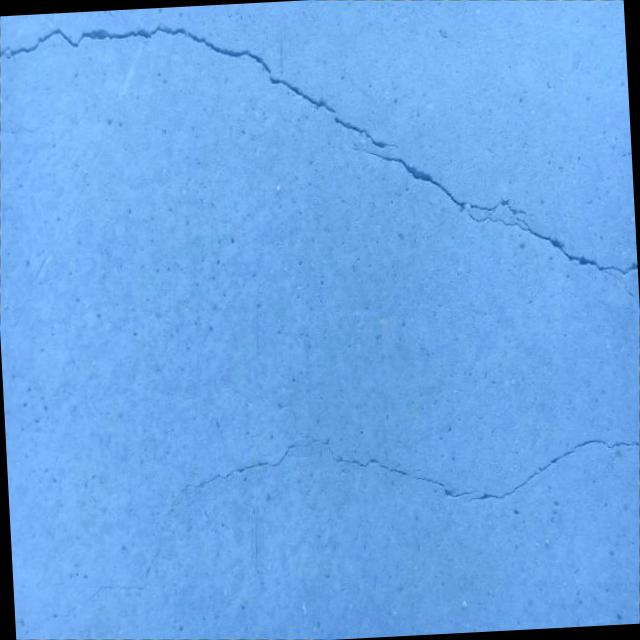crack: (0, 4, 403, 169), (173, 411, 640, 528), (358, 136, 640, 324), (27, 536, 166, 638)
